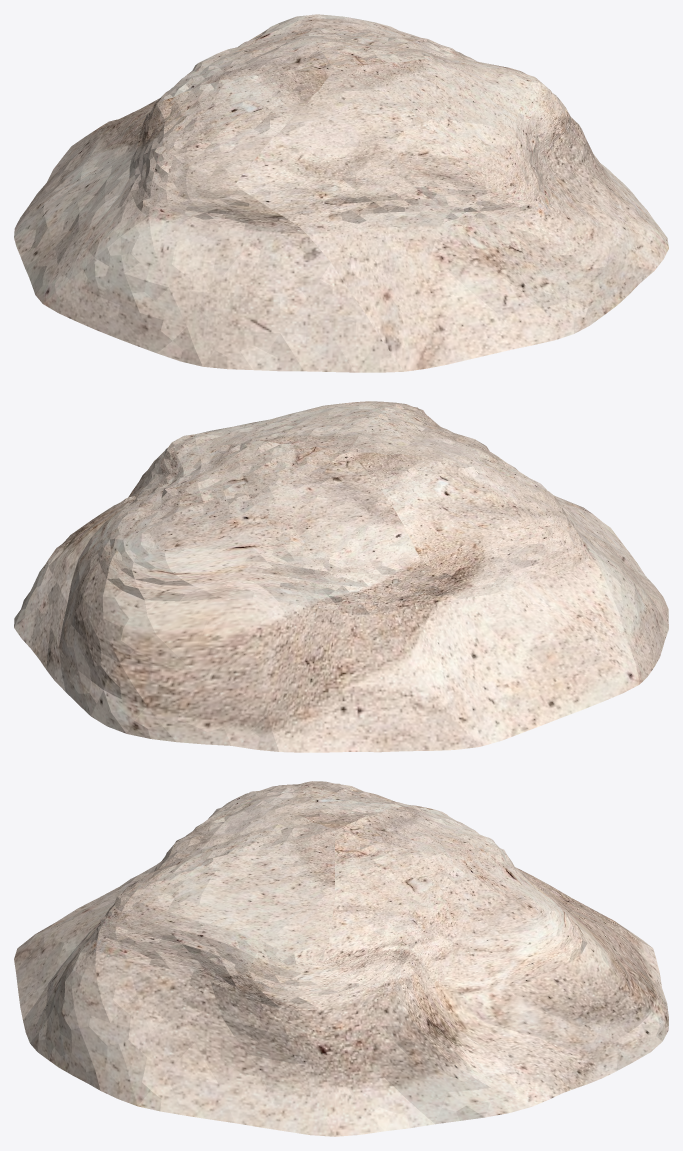
File: Island.glb
The picture shows the model from 3 angles, top to bottom: view 1: azimuth 30°, elevation 25°; view 2: azimuth 150°, elevation 25°; view 3: azimuth 270°, elevation 25°; orthographic projection.
Visible parts, largest first — view 1: Icosphere.001; view 2: Icosphere.001; view 3: Icosphere.001.
Part boxes in pixels (<box>): Icosphere.001: <box>14,14,668,372</box>; Icosphere.001: <box>14,401,668,752</box>; Icosphere.001: <box>14,781,668,1136</box>.
Bounding box in the file's own units: 33.15 × 9.68 × 33.18.
1 material, 1 textured.
